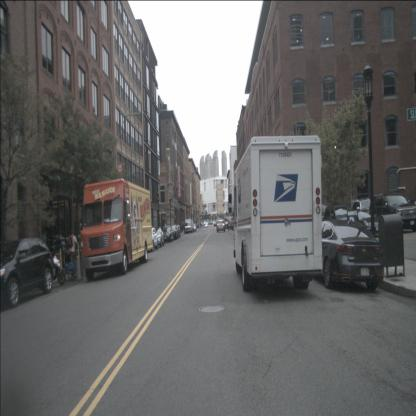human-pedestrian-adult: (68, 228, 80, 274), (180, 220, 184, 233)
movable_object-trafficcone: (77, 244, 83, 281), (59, 248, 63, 277), (181, 231, 184, 238)
vehicle-car: (310, 219, 384, 290), (0, 237, 54, 307), (369, 193, 415, 232), (346, 209, 384, 237), (323, 204, 356, 233), (348, 196, 380, 224), (47, 234, 69, 249), (145, 228, 158, 250), (153, 226, 164, 247), (162, 226, 174, 242), (169, 225, 179, 239), (216, 219, 225, 232), (173, 226, 181, 238), (224, 218, 229, 226), (192, 224, 196, 232)
vehicle-motorcycle: (35, 250, 66, 284)
vehicle-truck: (234, 135, 323, 291), (185, 218, 194, 233)
